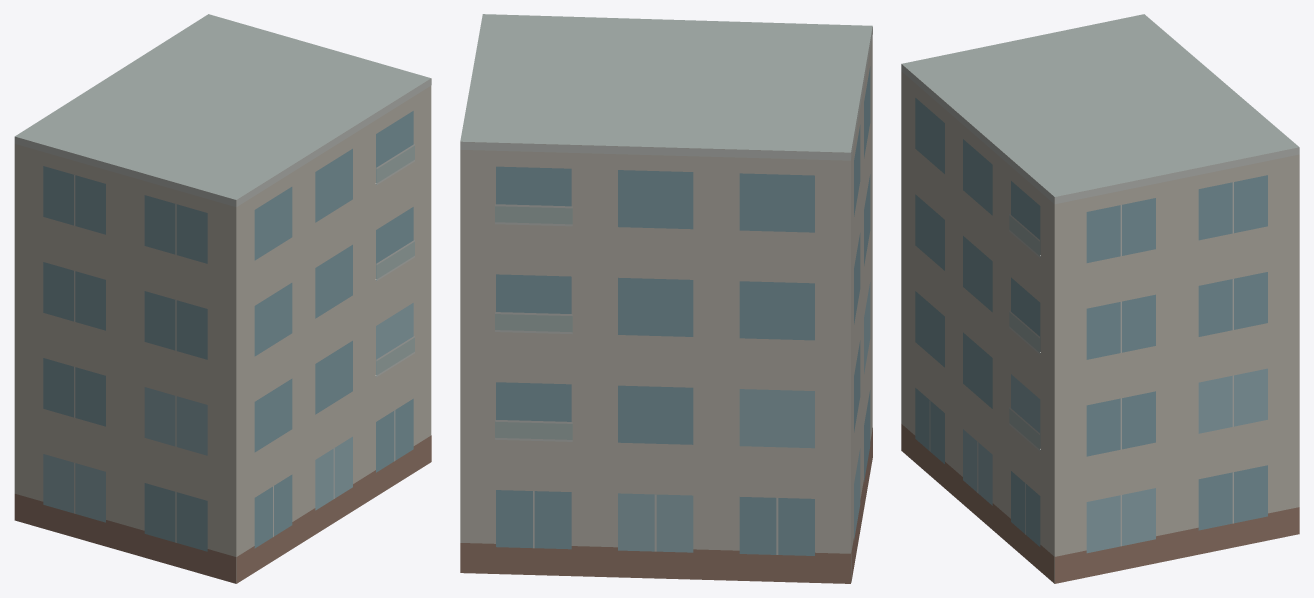
Rendered from survey-upis-32834921.glb.
3 views of the same model, side by side, from view 1: azimuth 30°, elevation 25°; view 2: azimuth 150°, elevation 25°; view 3: azimuth 270°, elevation 25° (orthographic). The views are drawn at different scales.
Visible parts, largest first — view 1: survey-upis-32834921.tmp; view 2: survey-upis-32834921.tmp; view 3: survey-upis-32834921.tmp.
Part boxes in pixels (bbox=[...]): survey-upis-32834921.tmp: bbox=[14, 14, 431, 583]; survey-upis-32834921.tmp: bbox=[460, 14, 872, 583]; survey-upis-32834921.tmp: bbox=[901, 14, 1299, 583].
Bounding box in the file's own units: 13.2 × 13 × 12.14.
